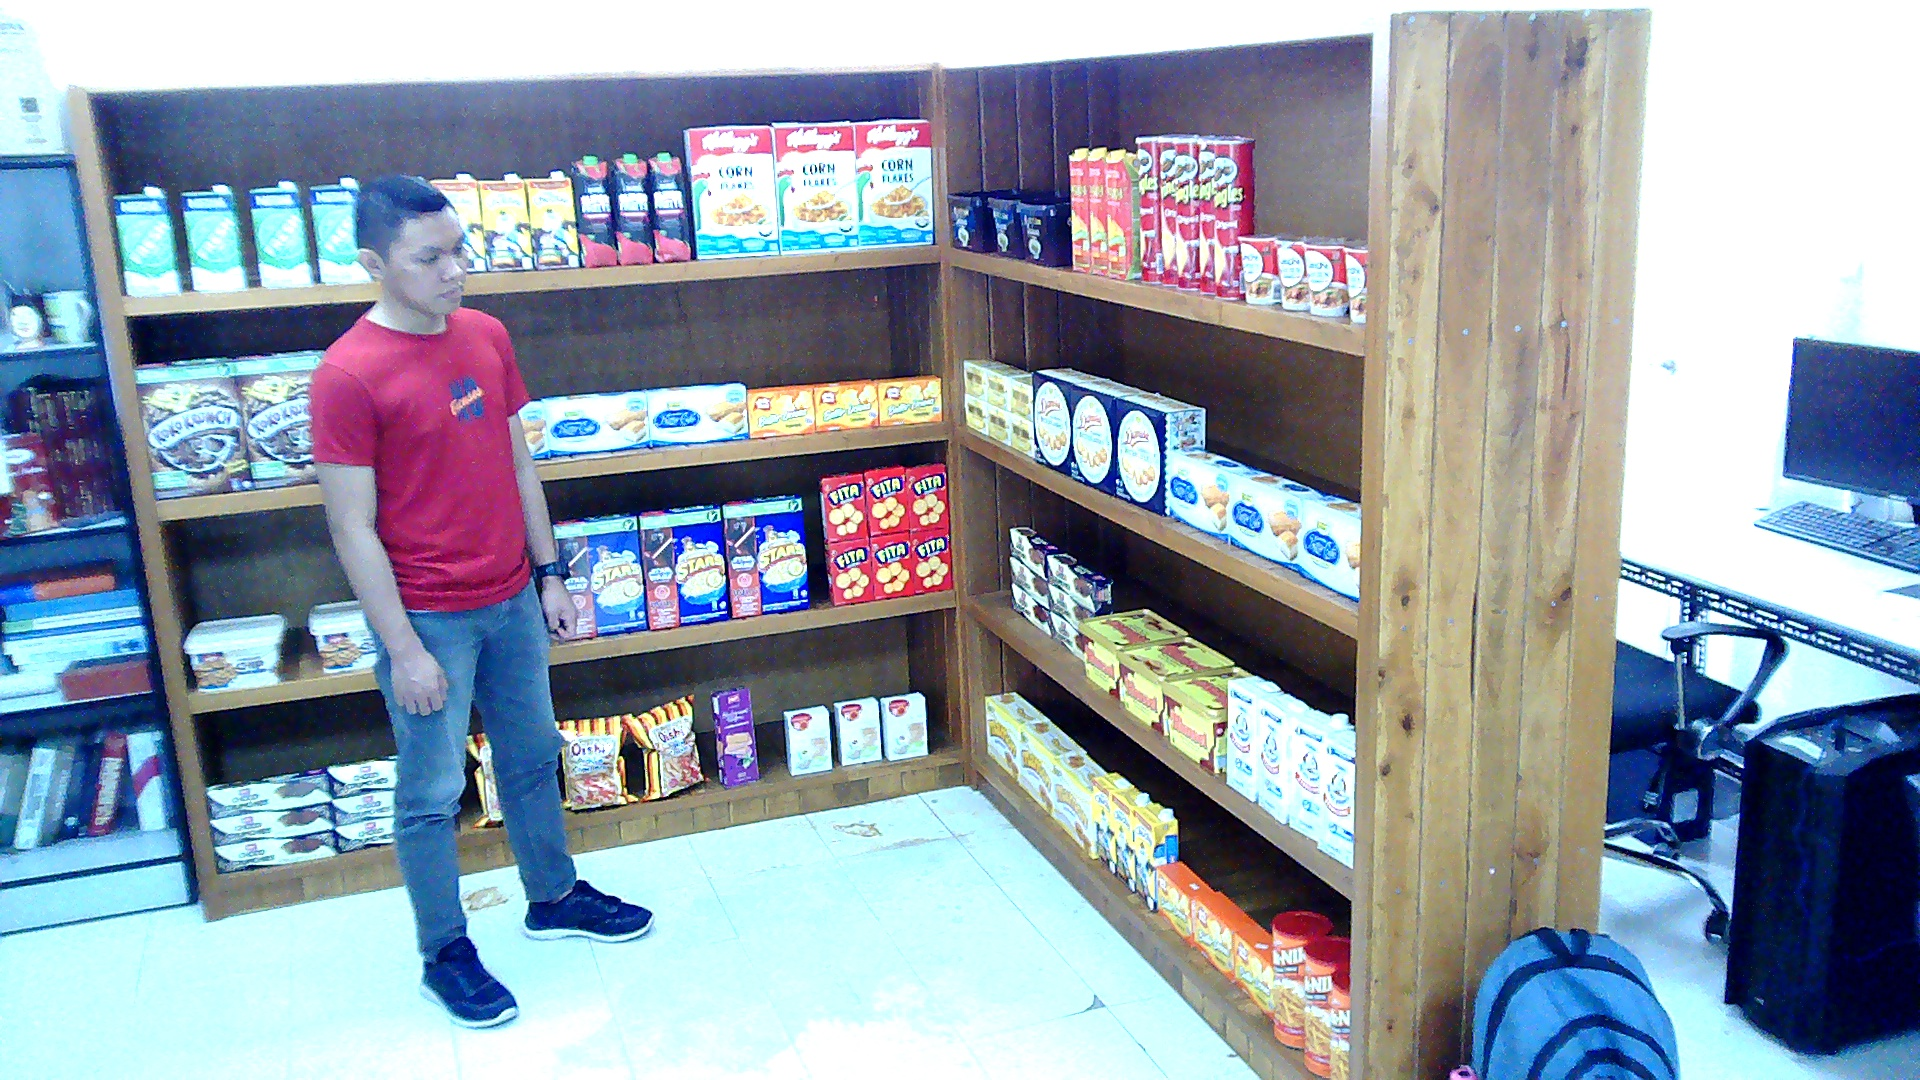Bear brand: (1287, 708, 1350, 841), (1224, 675, 1281, 801), (1257, 693, 1311, 823), (1317, 729, 1353, 869)
Buttercake: (1230, 470, 1332, 573), (1167, 448, 1257, 542), (540, 389, 648, 459), (642, 380, 747, 448), (1299, 495, 1359, 603), (519, 398, 549, 459)
Butterlicious: (1191, 891, 1257, 983), (1158, 859, 1215, 947), (807, 378, 879, 432), (747, 385, 813, 439), (872, 373, 941, 425), (1236, 925, 1272, 1019)
Camomille: (962, 357, 1007, 400), (987, 364, 1029, 409), (1010, 373, 1031, 420), (1010, 411, 1031, 458), (963, 394, 987, 434), (986, 402, 1007, 445)
Choco Crunchies: (204, 765, 330, 819), (209, 801, 332, 846), (213, 827, 336, 872), (1047, 550, 1113, 609), (1008, 526, 1065, 578), (1047, 582, 1113, 627), (326, 755, 395, 798), (329, 788, 392, 826), (336, 817, 393, 853), (1011, 583, 1050, 635), (1007, 556, 1046, 608), (1050, 612, 1083, 659)
Chocolate Chips: (182, 612, 287, 693), (306, 601, 378, 673)
Chuckie: (428, 173, 485, 272), (525, 171, 579, 270), (477, 173, 531, 270), (1134, 801, 1176, 909), (1095, 772, 1137, 875), (1113, 789, 1152, 890)
Danisa: (1113, 393, 1203, 515), (1071, 378, 1149, 495), (1031, 367, 1106, 477)
Fita: (815, 470, 866, 540), (821, 538, 872, 606), (864, 466, 909, 536), (909, 526, 951, 594), (870, 531, 912, 599), (906, 463, 948, 528)
Fresh Milk: (114, 187, 180, 295), (246, 180, 312, 288), (180, 184, 246, 290), (309, 178, 369, 281)
Grahams: (944, 186, 1037, 251), (987, 191, 1053, 259), (1017, 198, 1071, 266)
Hansel: (1116, 636, 1233, 733), (1077, 608, 1188, 700), (1161, 666, 1251, 772)
Head: (333, 164, 483, 324)
Honey Stars: (549, 511, 645, 641), (636, 502, 729, 630), (719, 493, 806, 619)
Kellogg Corn Flakes: (681, 123, 777, 258), (771, 121, 858, 254), (855, 119, 933, 247)
Kimchi Noodles: (1302, 236, 1350, 315), (1236, 234, 1281, 304), (1274, 236, 1307, 310), (1341, 238, 1368, 324)
Koko Krunch: (132, 358, 252, 500), (233, 348, 320, 488)
Locally Mango: (1104, 149, 1140, 279), (1068, 146, 1089, 272), (1086, 146, 1107, 274)
Mamon: (983, 691, 1046, 783), (1020, 719, 1080, 816), (1053, 751, 1104, 859)
Oishi Prawn: (621, 693, 711, 801), (555, 715, 639, 812), (465, 734, 501, 828)
Pik-nik: (1271, 909, 1334, 1049), (1304, 934, 1349, 1076), (1328, 962, 1349, 1077)
Pringles: (1215, 137, 1254, 297), (1133, 135, 1160, 283), (1173, 134, 1197, 287), (1158, 134, 1176, 285), (1197, 135, 1212, 295)
Super Fruits: (570, 152, 615, 267), (608, 152, 653, 265), (648, 151, 690, 261)
Wafer: (711, 686, 759, 785)
iHop: (834, 695, 882, 765), (879, 691, 927, 761), (783, 704, 831, 774)
